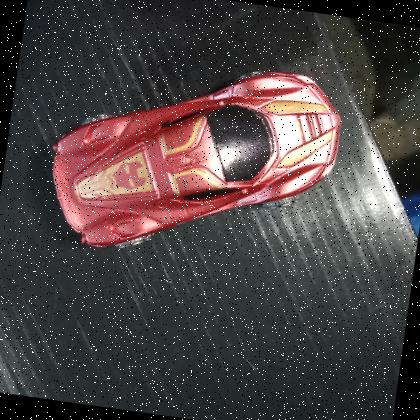Car: (34, 37, 353, 286)
